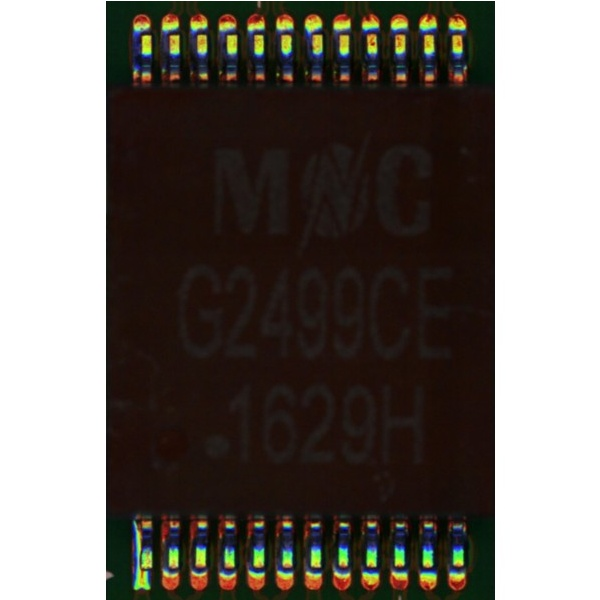Bad_podu: (138, 561, 146, 580)
Bad_qiaojiao: (132, 519, 140, 566)
